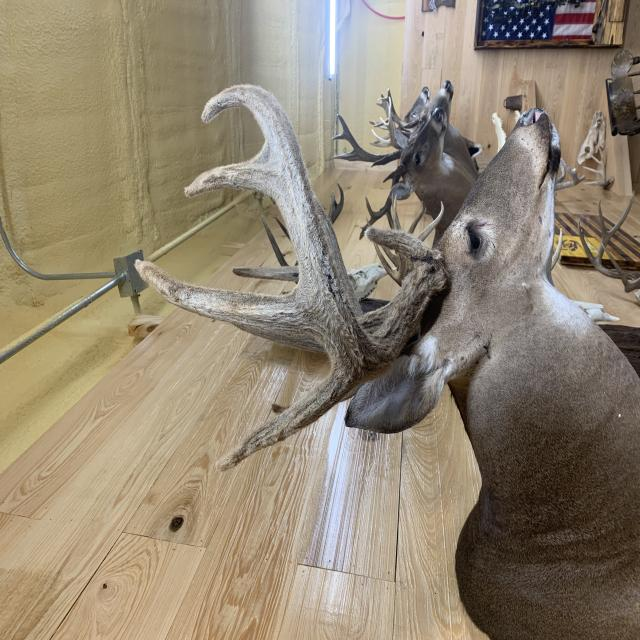R-F: (194, 266, 418, 598)
R-G1: (283, 488, 310, 575)
R-G2: (126, 287, 207, 479)
R-G3: (226, 180, 285, 418)
R-G4: (331, 245, 360, 367)
